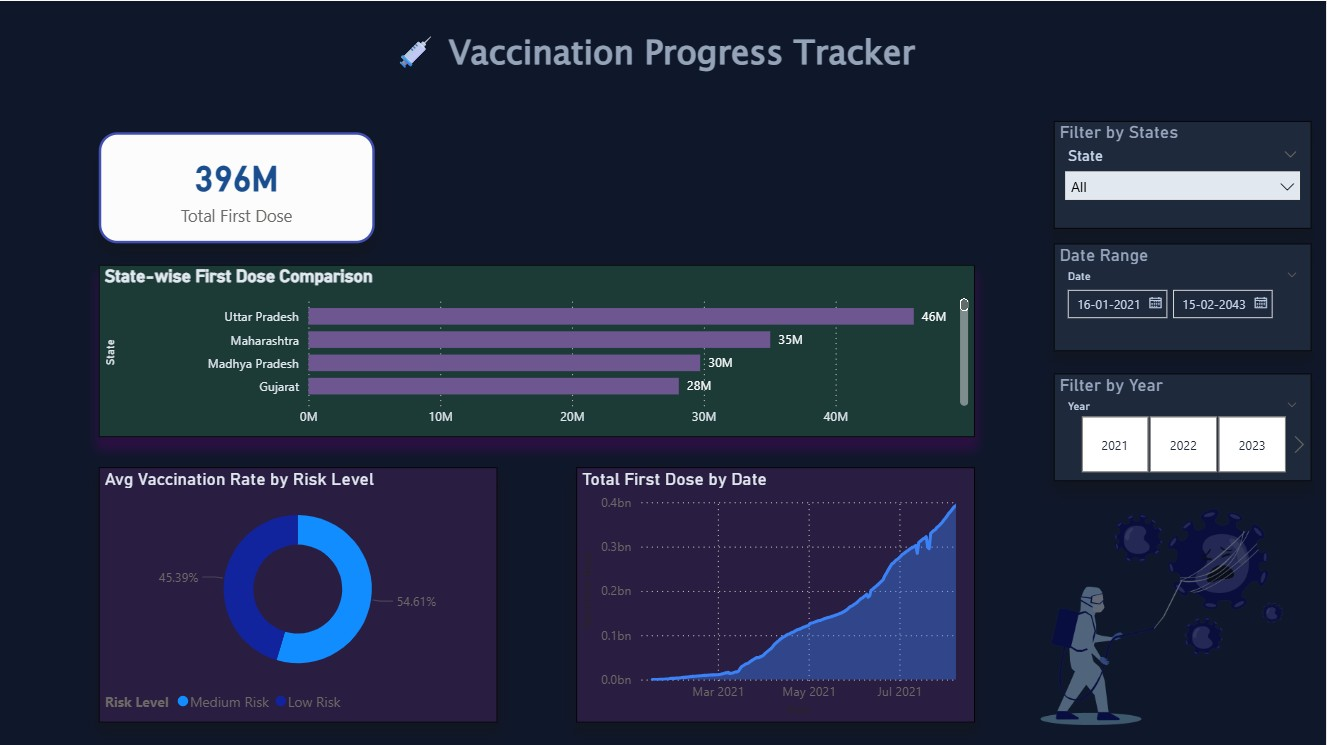

The page's visual inventory and layout, read from the dashboard file:
{"tool":"powerbi","page":{"name":"Vaccination Tracker","canvas":[1280,720],"ordinal":2},"visuals":[{"type":"textbox","box":[374,20.5,530.8,61.5],"z":0},{"type":"card","title":"Total First Dose Administered","fields":{"Values":["RawData.Total First Dose"]},"box":[95.3,126.7,266.6,107.4],"z":1000},{"type":"donutChart","fields":{"Y":["RawData.Avg Vaccination Rate"],"Category":["RawData.Risk Level"]},"box":[15.7,450,384.3,245.7],"z":2000},{"type":"lineChart","fields":{"Category":["DateTable.Date"],"Y":["RawData.Total First Dose"]},"box":[430,450,385.7,245.7],"z":3000},{"type":"clusteredBarChart","title":"State-wise First Dose Comparison","fields":{"Category":["RawData.State"],"Y":["RawData.Total First Dose"]},"box":[95.3,254.6,845.7,166.5],"z":4000},{"type":"slicer","title":"Filter by States","fields":{"Values":["RawData.State"]},"box":[1017.1,81.4,248.6,104.3],"z":5000},{"type":"slicer","title":"Filter by Year","fields":{"Values":["DateTable.Year"]},"box":[1017.1,337.1,248.6,102.9],"z":6000},{"type":"slicer","title":"Date Range","fields":{"Values":["DateTable.Date"]},"box":[1017.1,215.7,248.6,102.9],"z":7000},{"type":"lineChart","fields":{"Category":["DateTable.Date"],"Y":["RawData.Total Second Dose"]},"box":[854.3,450,385.7,245.7],"z":8001}]}

Visuals, with their boxes in screenshot pixels (x1, y1, x2, y2), scaled from the page's 1280x720 canvas onto the 1327x745 screenshot:
textbox: [left=388, top=21, right=938, bottom=85]
"Total First Dose Administered" card: [left=99, top=131, right=375, bottom=242]
donutChart - RawData.Avg Vaccination Rate x RawData.Risk Level: [left=16, top=466, right=415, bottom=720]
lineChart - DateTable.Date x RawData.Total First Dose: [left=446, top=466, right=846, bottom=720]
"State-wise First Dose Comparison" clusteredBarChart: [left=99, top=263, right=976, bottom=436]
"Filter by States" slicer: [left=1054, top=84, right=1312, bottom=192]
"Filter by Year" slicer: [left=1054, top=349, right=1312, bottom=455]
"Date Range" slicer: [left=1054, top=223, right=1312, bottom=330]
lineChart - DateTable.Date x RawData.Total Second Dose: [left=886, top=466, right=1286, bottom=720]
